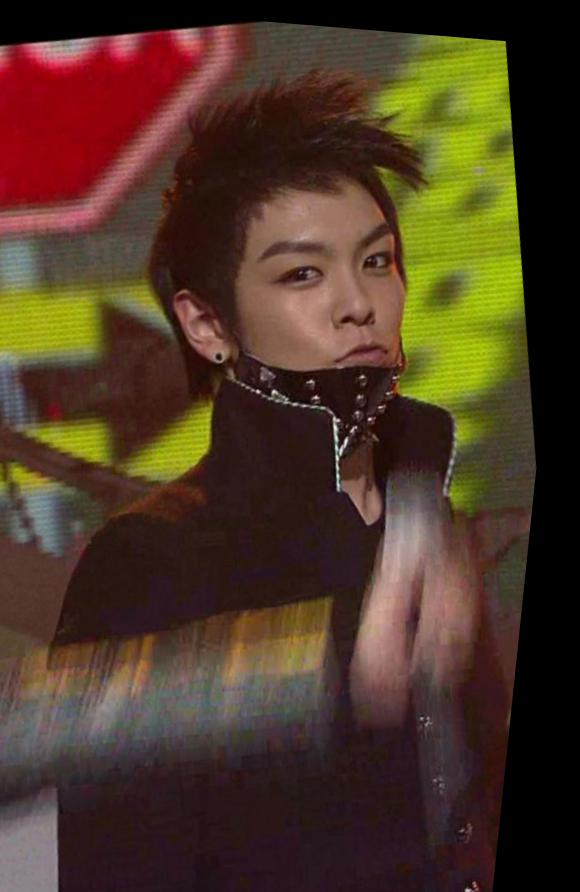WRONG: (213, 193, 447, 440)
